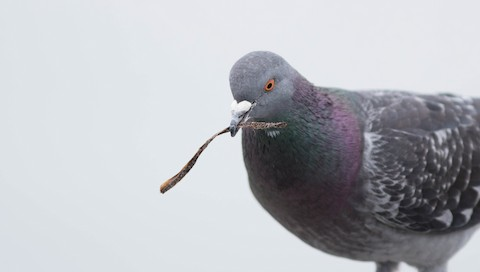pigeon: (224, 44, 480, 269)
